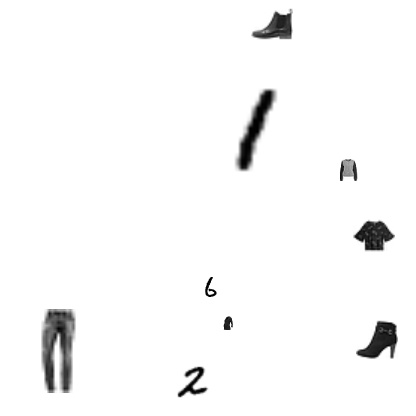1: (196, 70, 308, 182)
2: (172, 361, 214, 403)
6: (195, 274, 223, 302)
Ankle_boot: (251, 3, 293, 45), (356, 318, 398, 360)
Coat: (337, 159, 359, 181)
Pullover: (221, 316, 235, 330)
Shirt: (353, 214, 395, 256)
Trouser: (15, 309, 99, 393)
